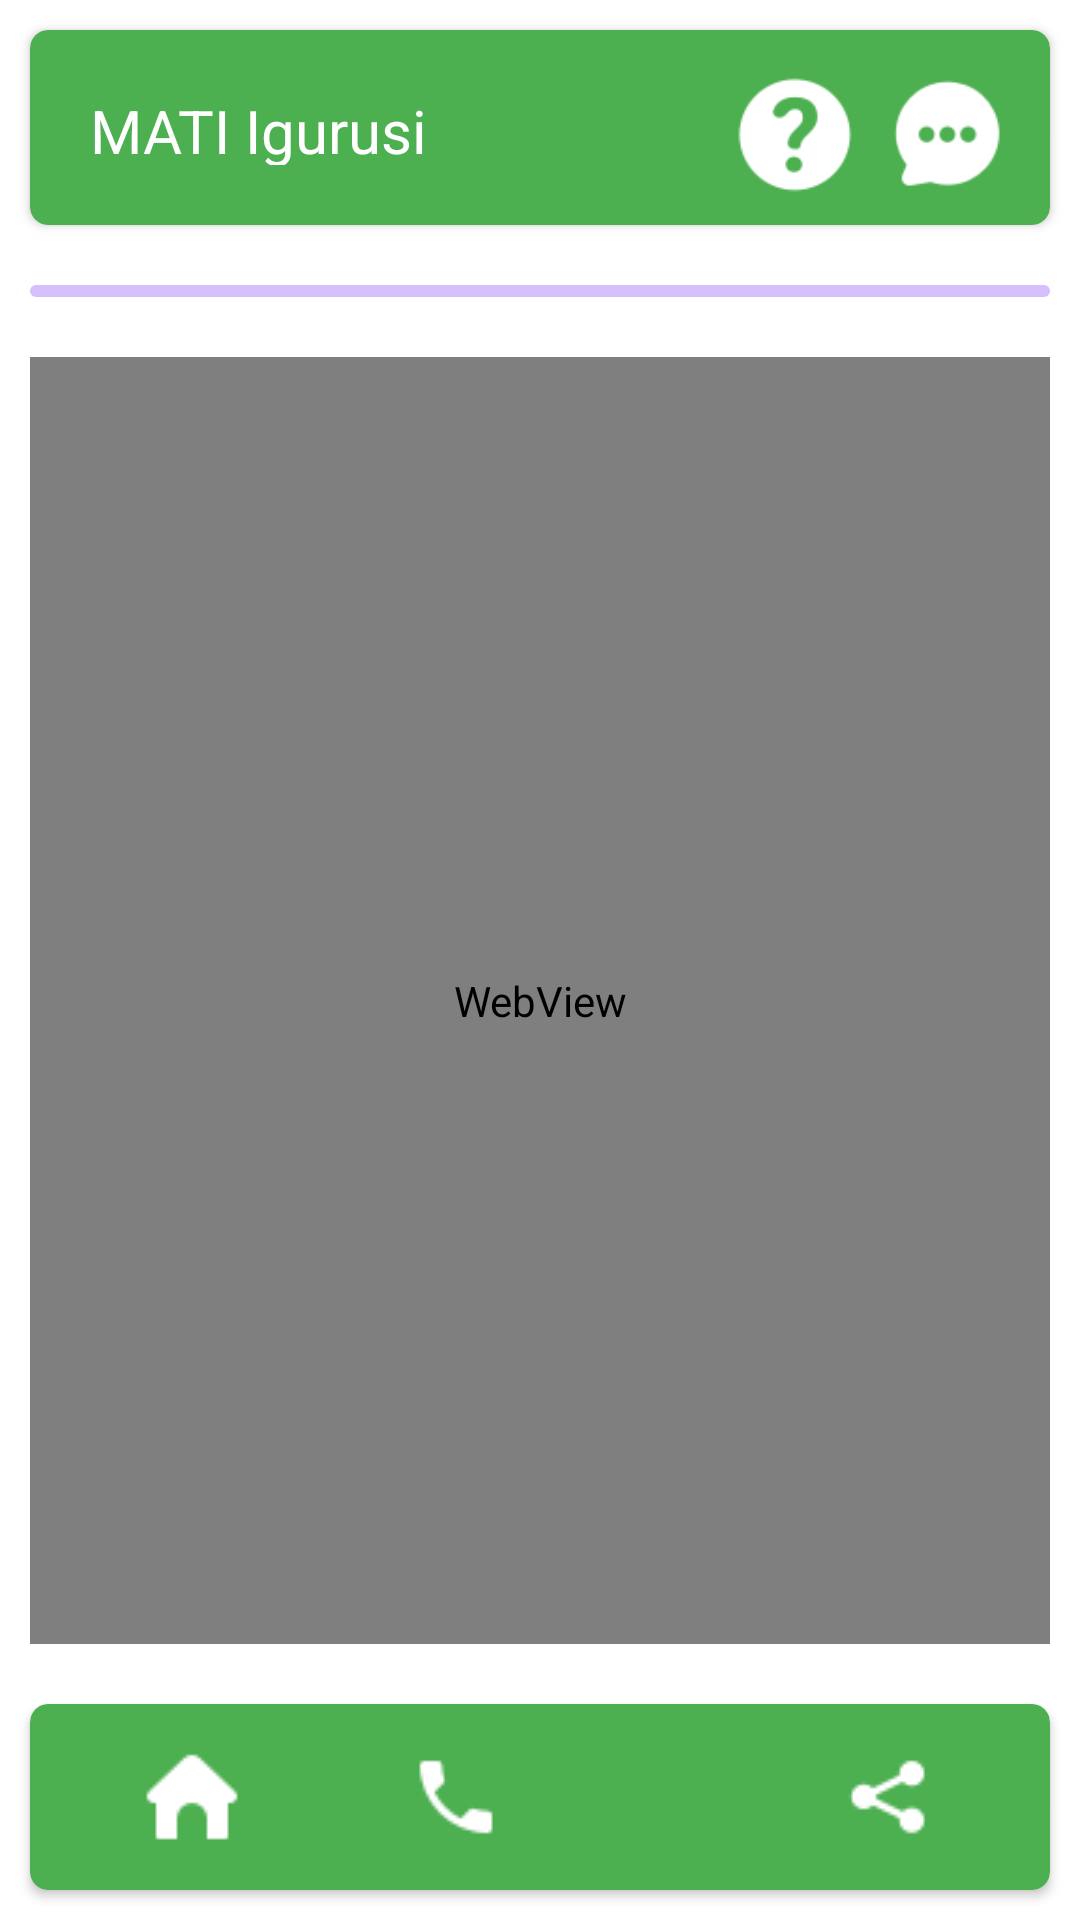

Point at icon controls on the screen. Image size 1080*1920, points as (x,y).
calls: (456,1797)
homes: (192,1797)
mchat: (947,133)
shares: (887,1797)
